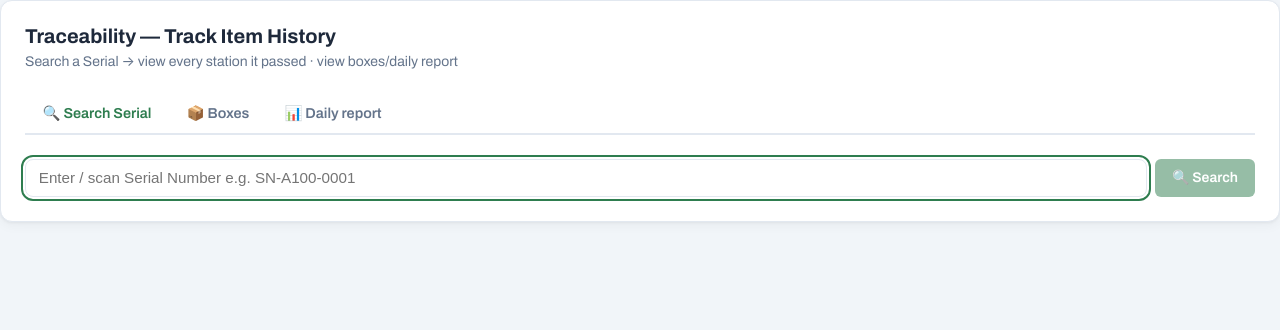
Test case: TraceabilityPage (#50) › fail-soft: serial ไม่พบ / error → โชว์ error ไม่ crash
Type "SN-X" into the field named "Search Serial Number".
click(586, 178); type("SN-X")  # box [25, 159, 1147, 197]
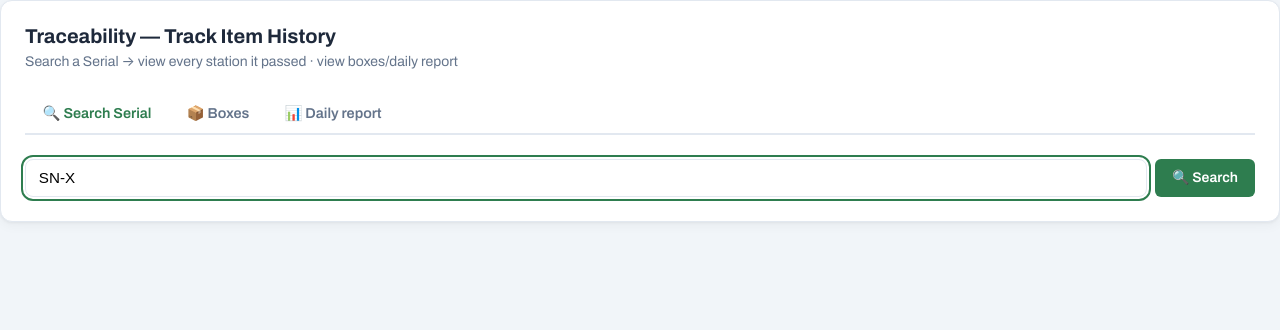
Click the button "🔍 Search".
click(1205, 178)  # box [1155, 159, 1255, 197]
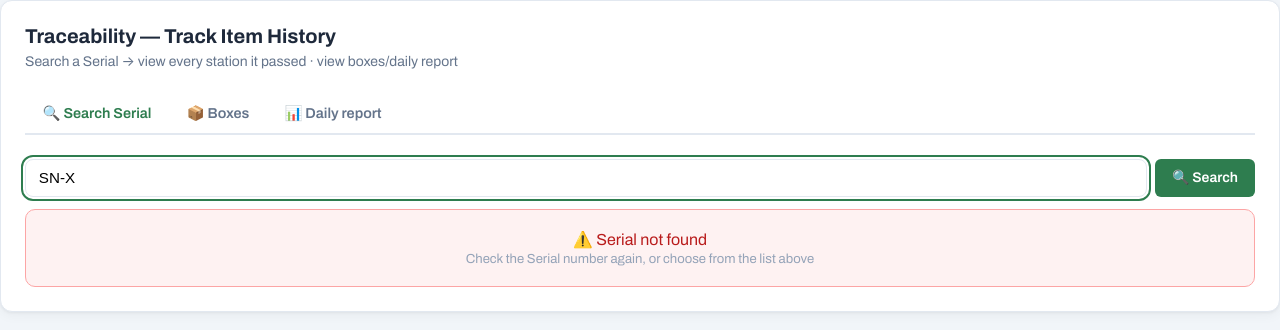
Check: the text "Serial not found" is shown, box [596, 231, 707, 248]
